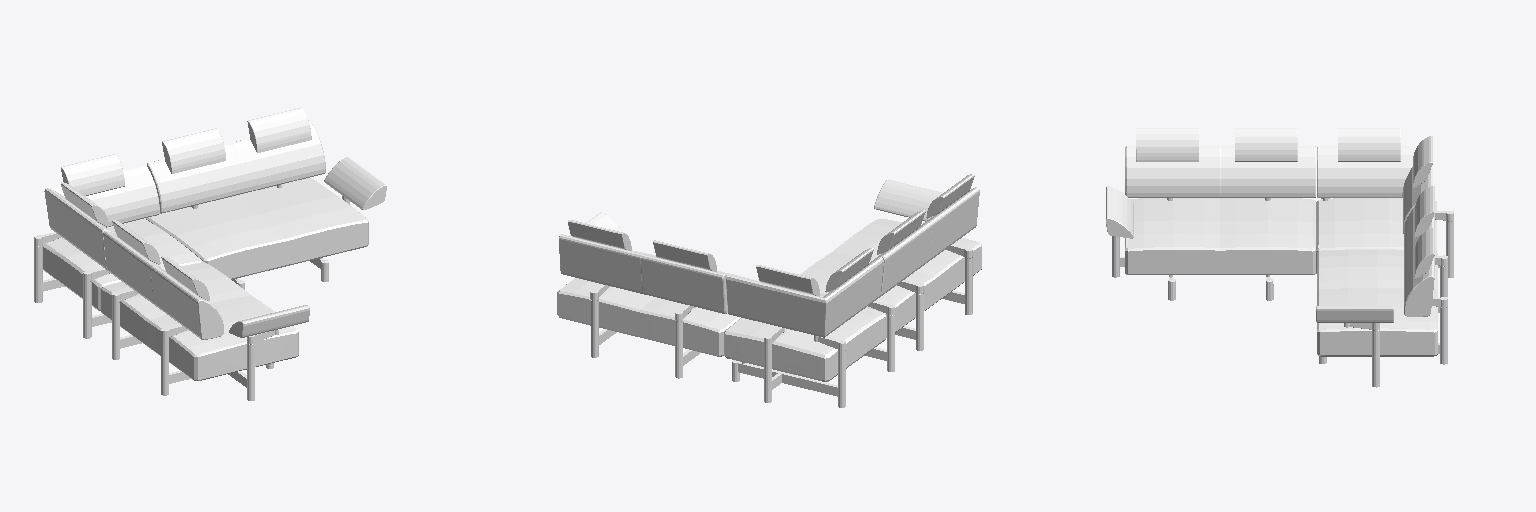
3 views of the same model, side by side, from view 1: azimuth 30°, elevation 25°; view 2: azimuth 150°, elevation 25°; view 3: azimuth 270°, elevation 25° (orthographic).
Visible parts, largest first — view 1: aws_Sofa_01_visualMesh; view 2: aws_Sofa_01_visualMesh; view 3: aws_Sofa_01_visualMesh.
Part boxes in pixels (bbox=[...]): aws_Sofa_01_visualMesh: bbox=[34, 107, 386, 400]; aws_Sofa_01_visualMesh: bbox=[557, 174, 981, 407]; aws_Sofa_01_visualMesh: bbox=[1106, 128, 1453, 387].
Bounding box in the file's own units: 2.42 × 0.9651 × 2.44.